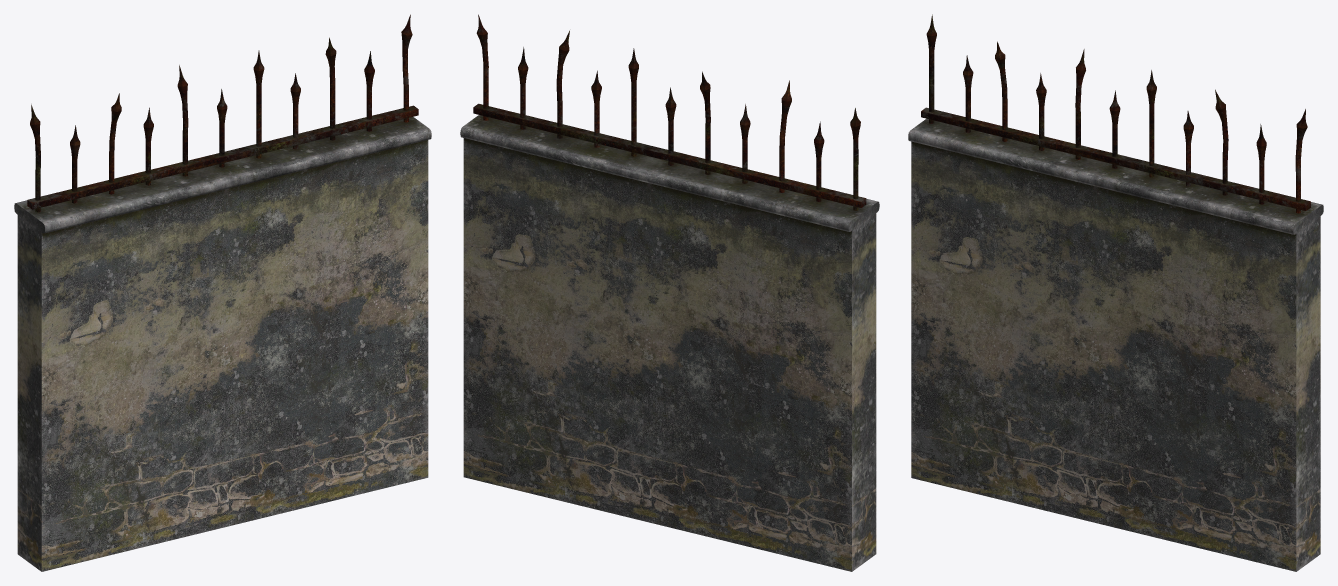
Rendered from SM_fence_31.fbx.
3 views of the same model, side by side, from view 1: azimuth 30°, elevation 25°; view 2: azimuth 150°, elevation 25°; view 3: azimuth 330°, elevation 25° (orthographic).
Parts seen in each view (by area): view 1: SM_fence_31; view 2: SM_fence_31; view 3: SM_fence_31.
Part boxes in pixels (x1,y1,x2,y2): SM_fence_31: (14, 14, 431, 571); SM_fence_31: (460, 14, 879, 571); SM_fence_31: (908, 14, 1323, 571).
Size of the model in its own units: 341 by 385 by 46.92.
